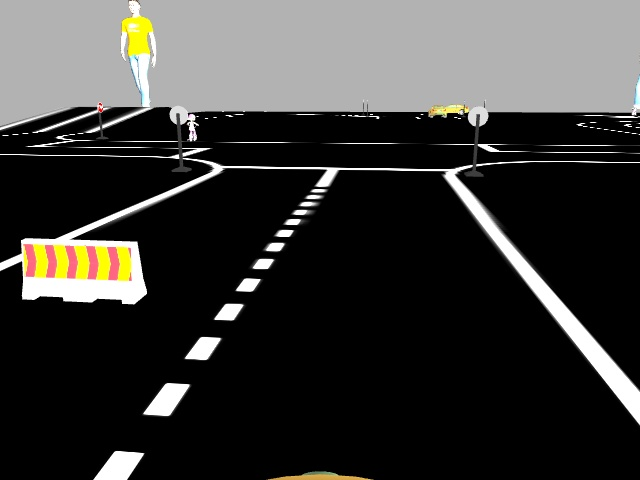ClosedRoadStand: (20, 238, 147, 299)
